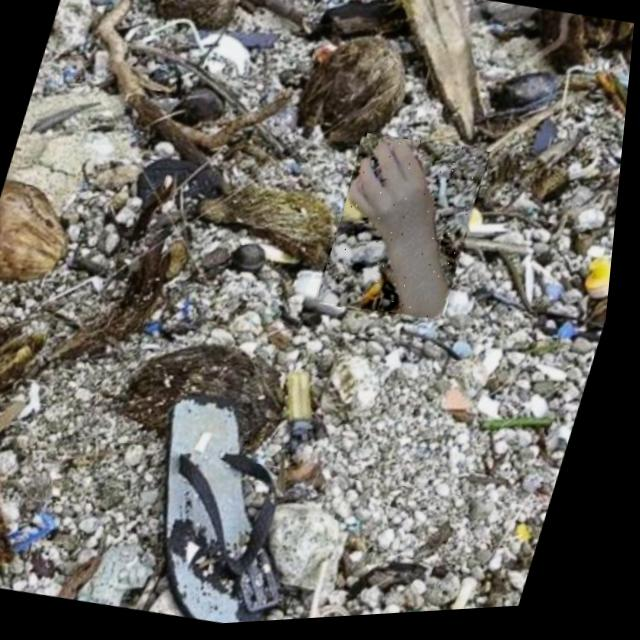Person in Rubble: (318, 130, 497, 332)
